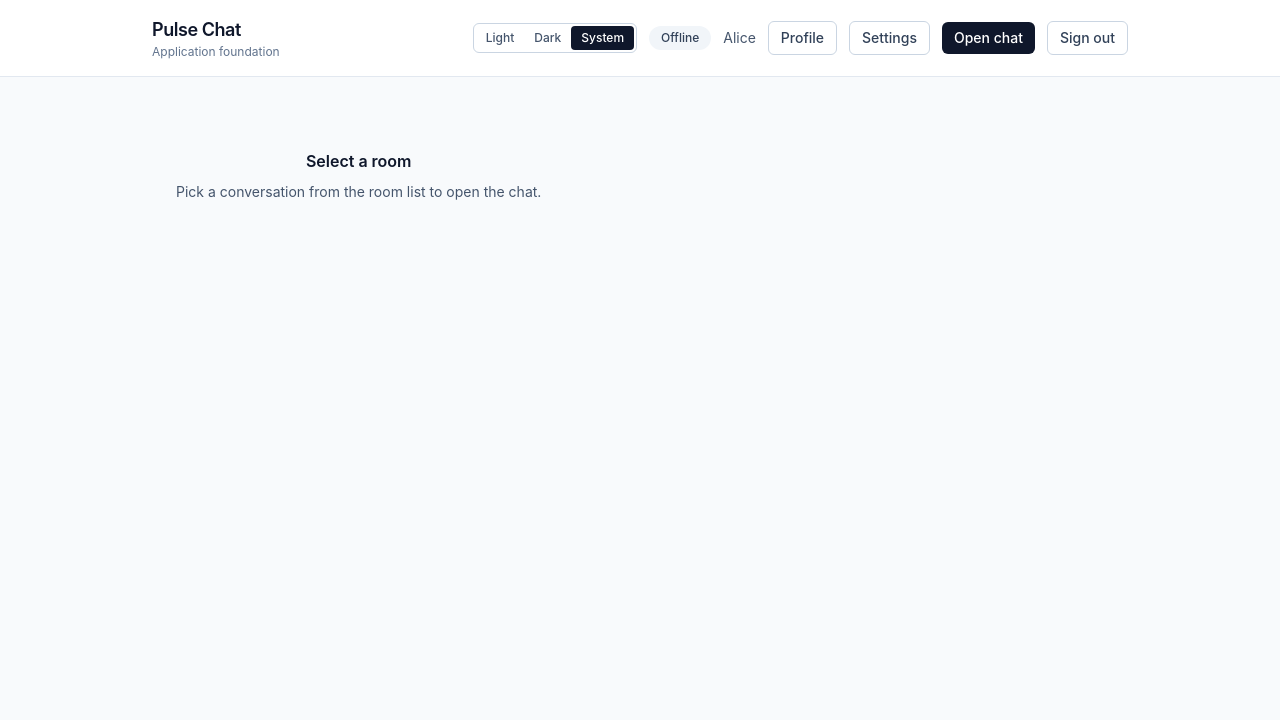
AppShell logout › clears the session and returns to login
The image size is (1280, 720).
Step 1. Click the button "Sign out" → click(1088, 38), box 1047,21 -> 1128,55
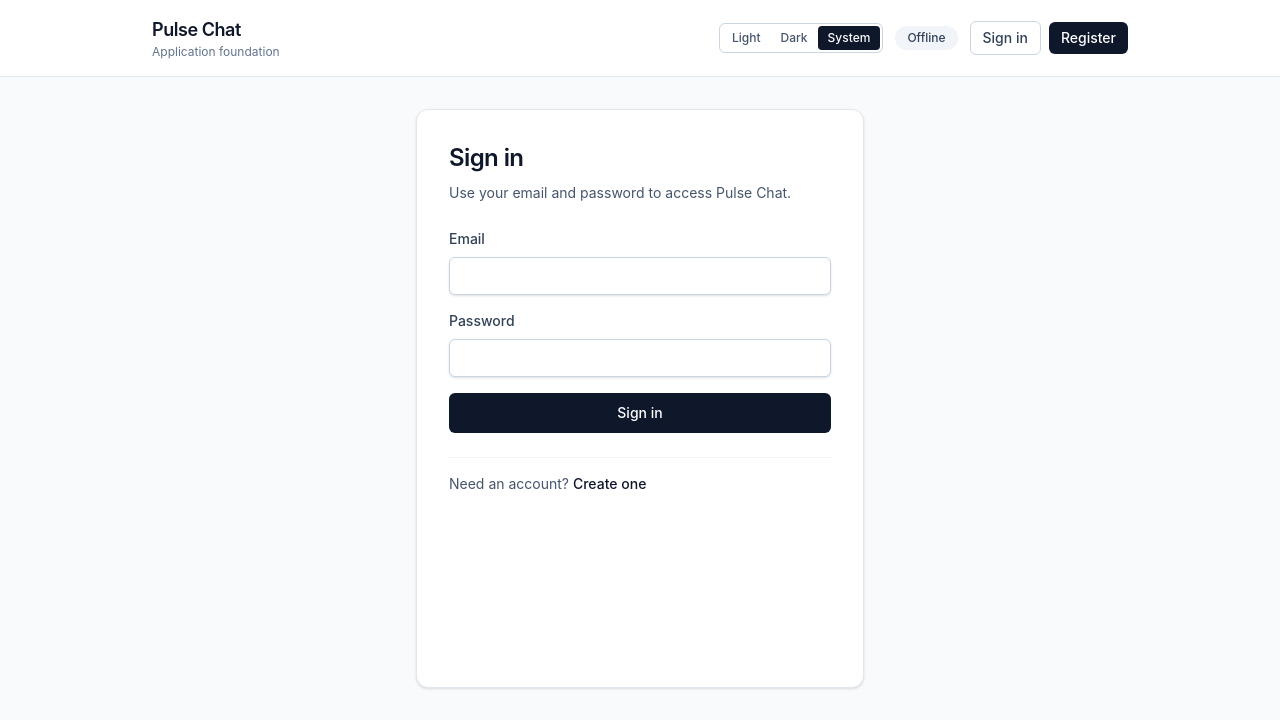
Check: the heading "Sign in" is shown, box 449,143 -> 523,172
